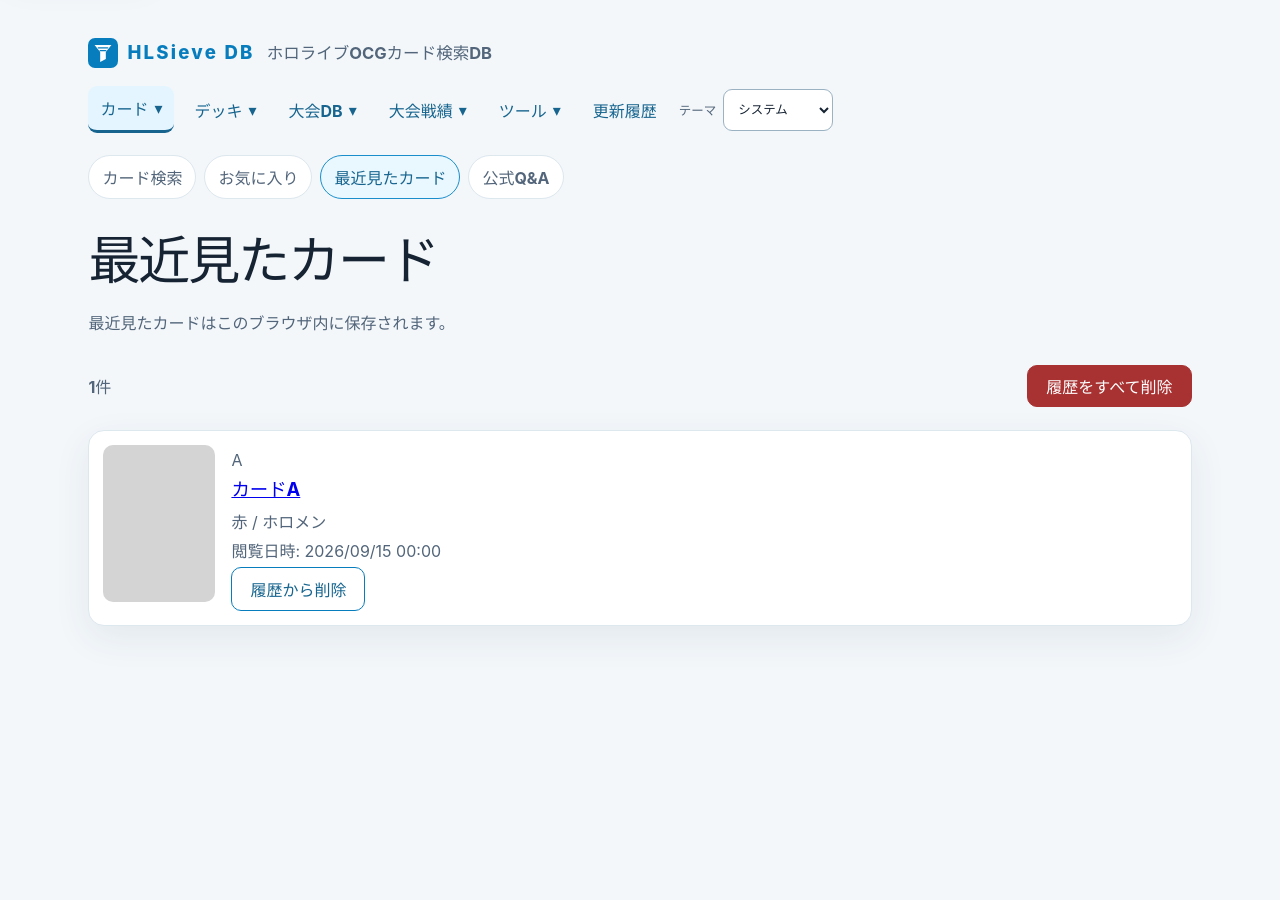
Test case: RecentlyViewedCardsPage › confirms, cancels, and completes clear all
The image size is (1280, 900).
Click the button with aria-label "最近見たカードの履歴をすべて削除" at (1110, 386), box x1=1027 y1=365 x2=1192 y2=407
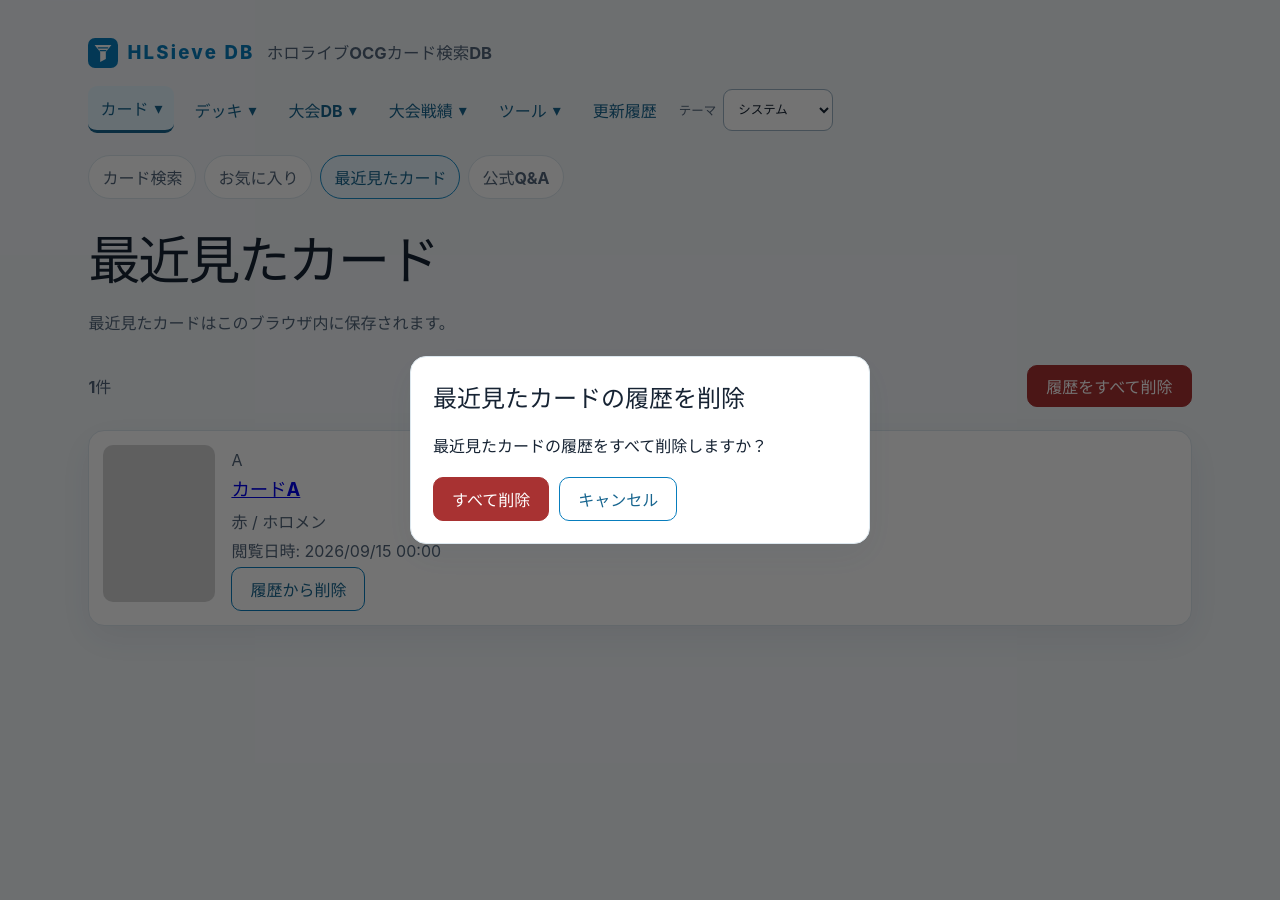
Result: the dialog shows "最近見たカードの履歴をすべて削除しますか？" at x1=433 y1=436 x2=767 y2=456
Click the button "キャンセル" at (618, 500), box x1=559 y1=478 x2=677 y2=522
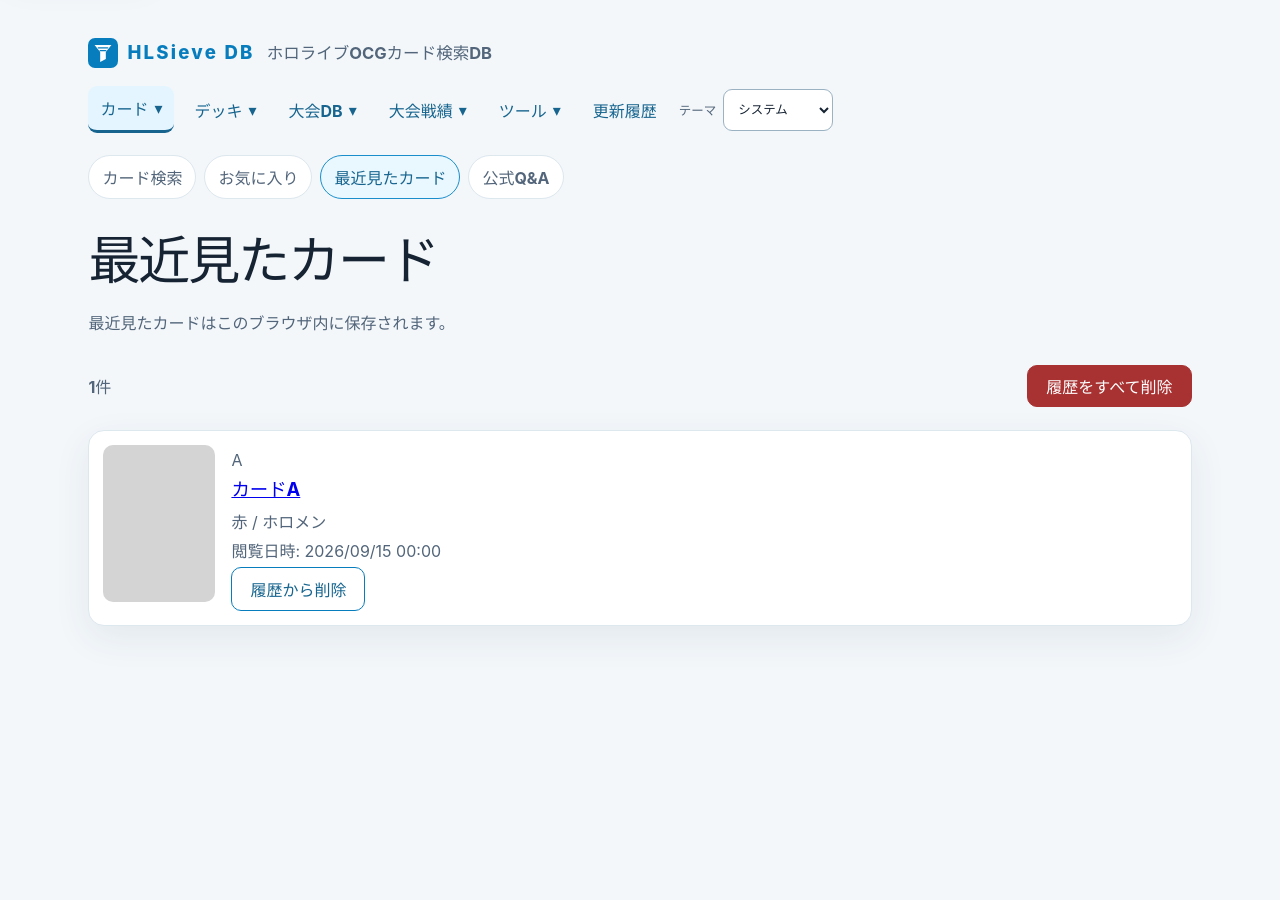
Result: the dialog is gone
Click the button with aria-label "最近見たカードの履歴をすべて削除" at (1110, 386), box x1=1027 y1=365 x2=1192 y2=407
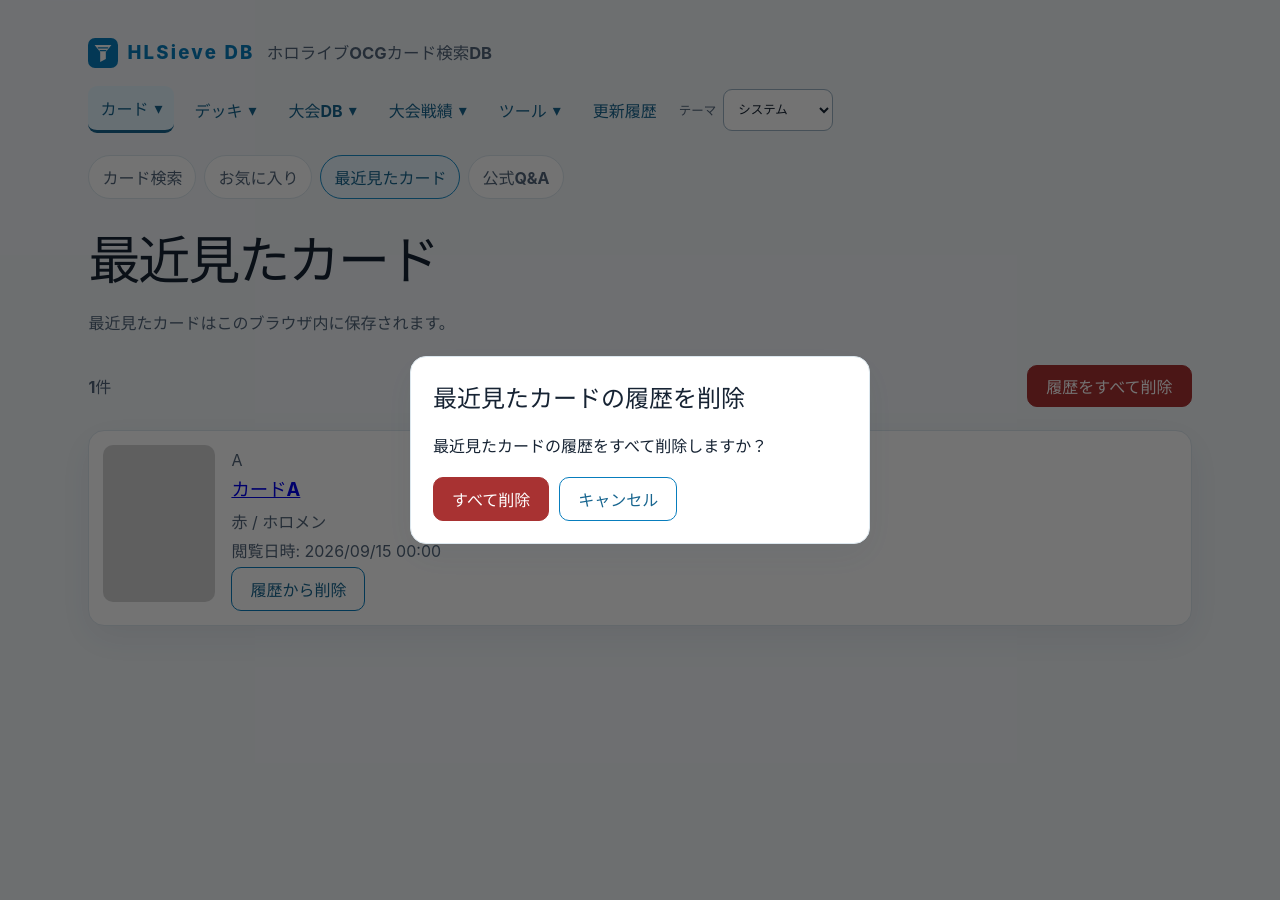
Click the button "すべて削除" at (491, 500), box x1=433 y1=478 x2=549 y2=522
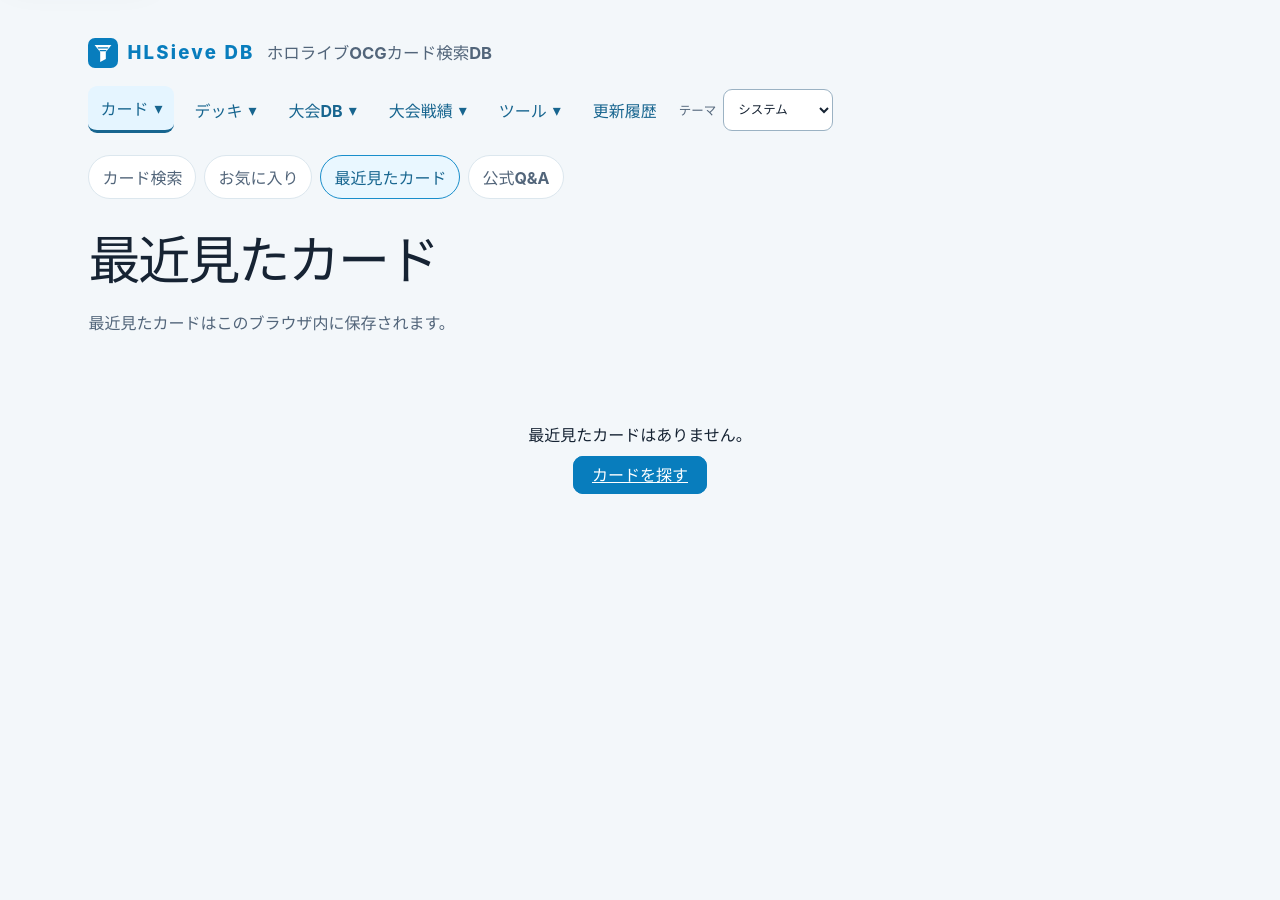
Result: the text "最近見たカードはありません。" is shown at x1=528 y1=425 x2=752 y2=445
